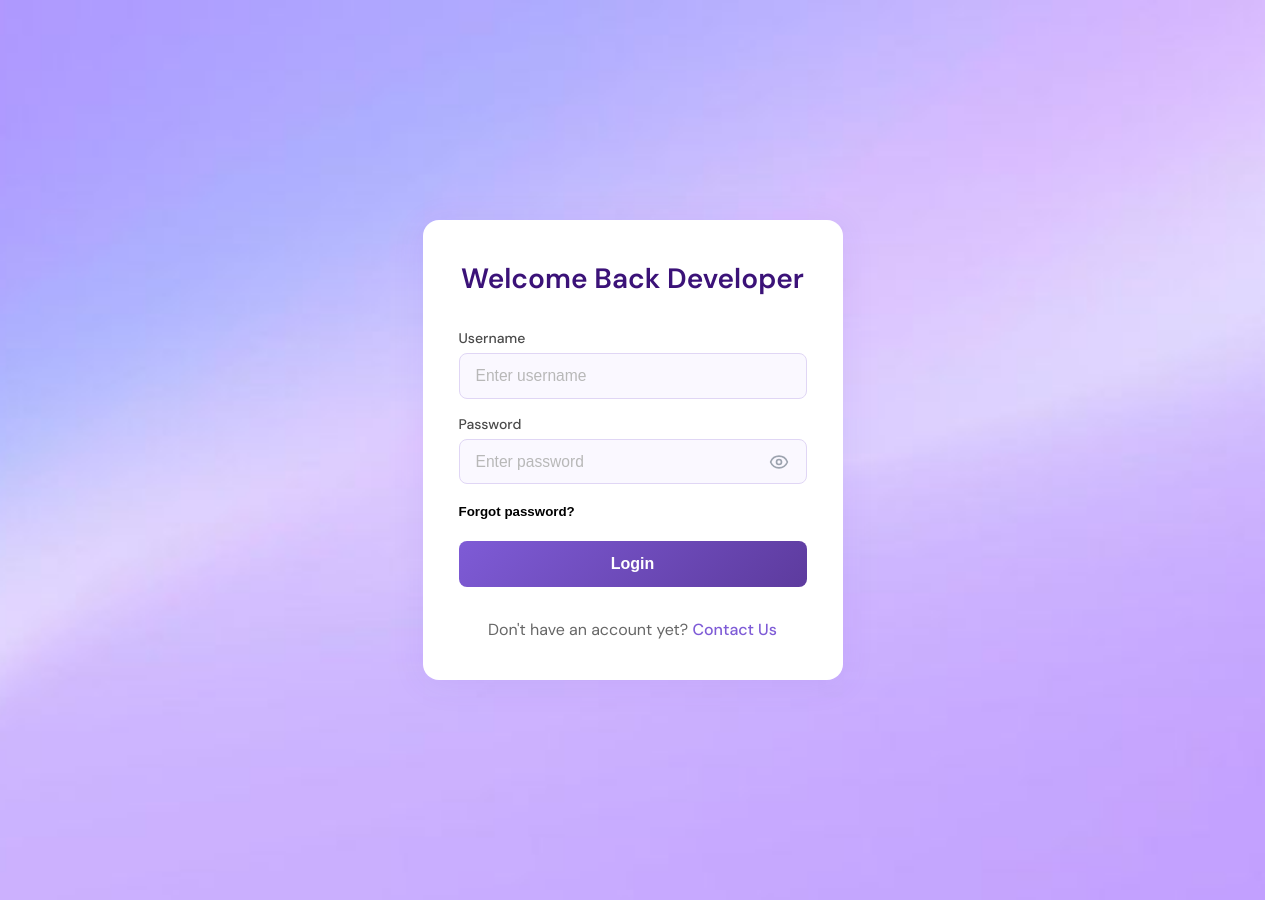
Scenario: LoginPage › maps a 403 response to the right user-facing message
Type "devuser" into the field with placeholder "Enter username" at point(632, 376), box [458,353,806,398]
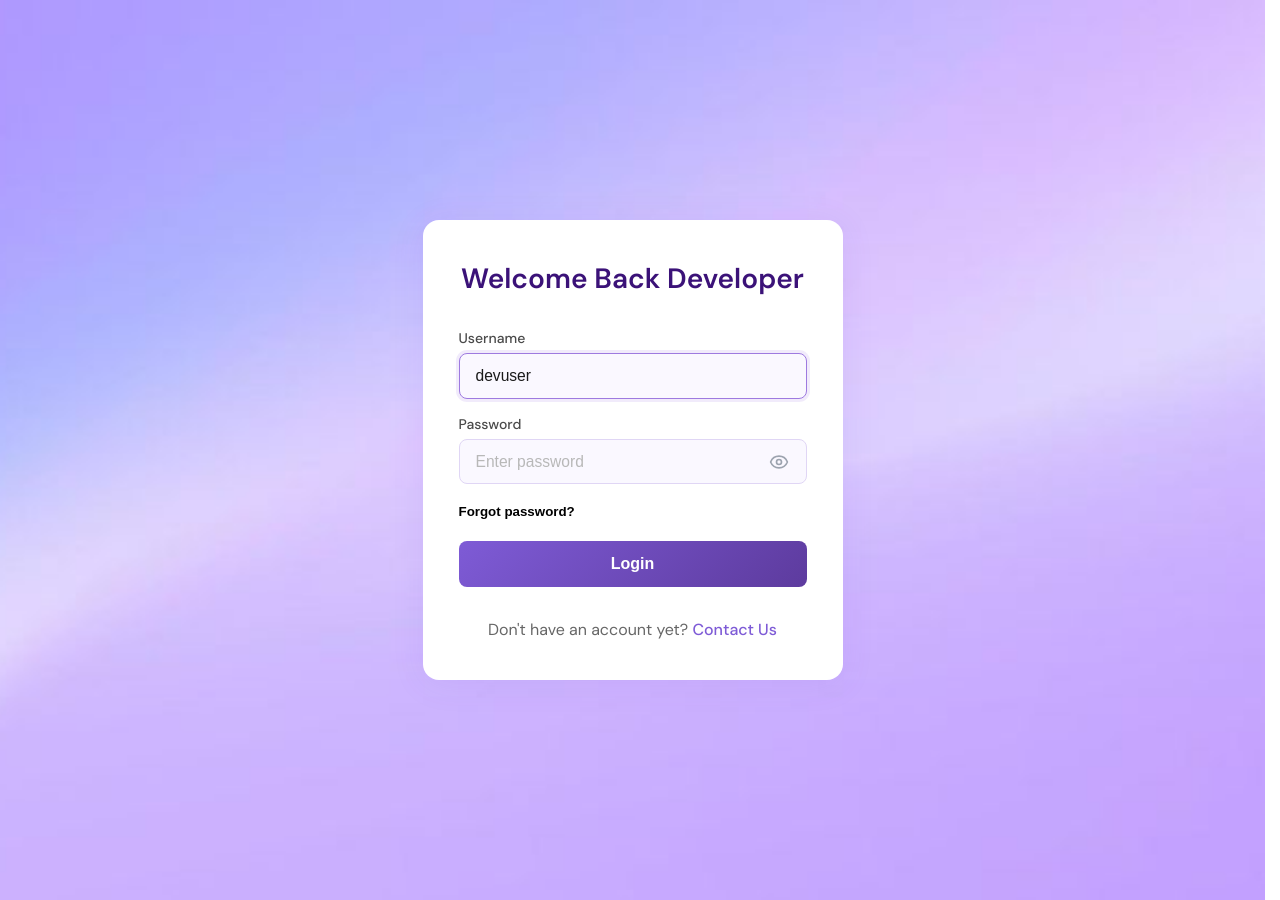
Type "Password123!" into the password field with placeholder "Enter password" at point(632, 462), box [458,439,806,484]
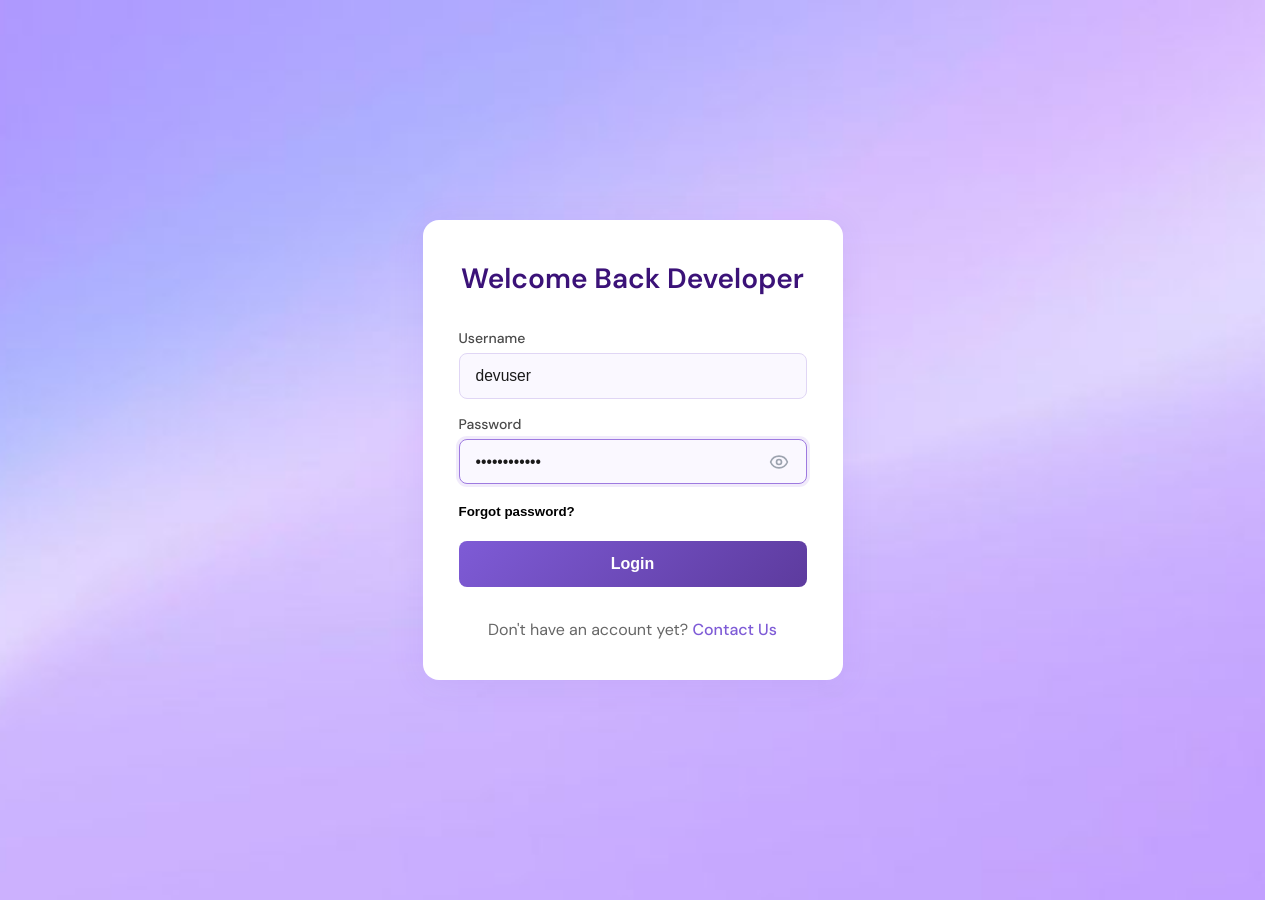
Click the button "Login" at point(632, 564), box [458,542,806,588]
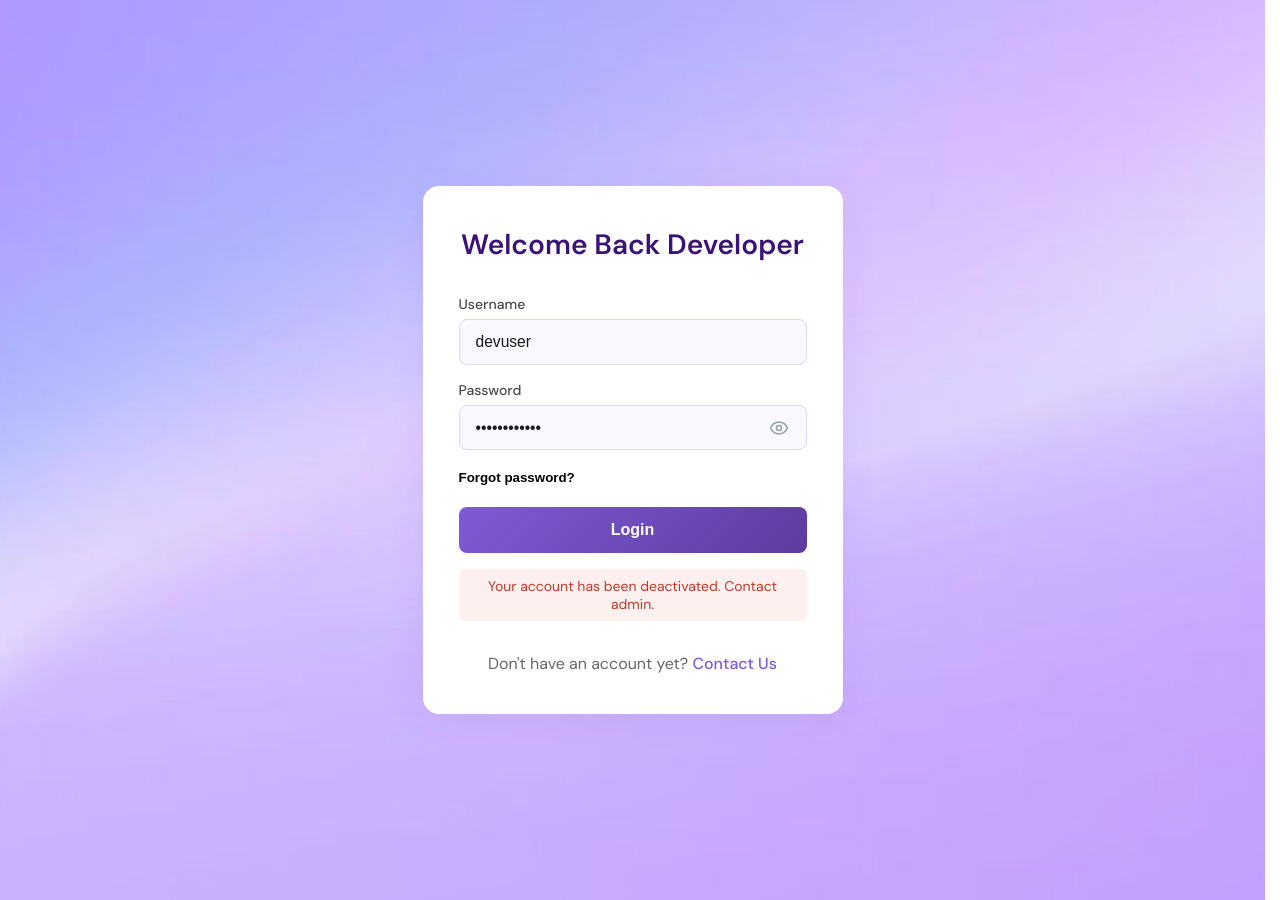
Expected: the text "Your account has been deactivated. Contact admin." is shown, [458,570,806,622]
